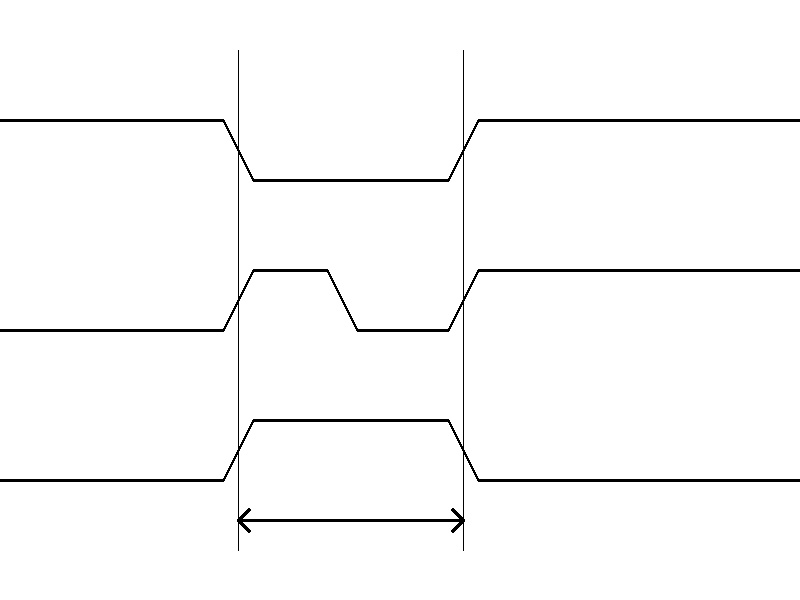double_arrow: (238, 505, 463, 535)
